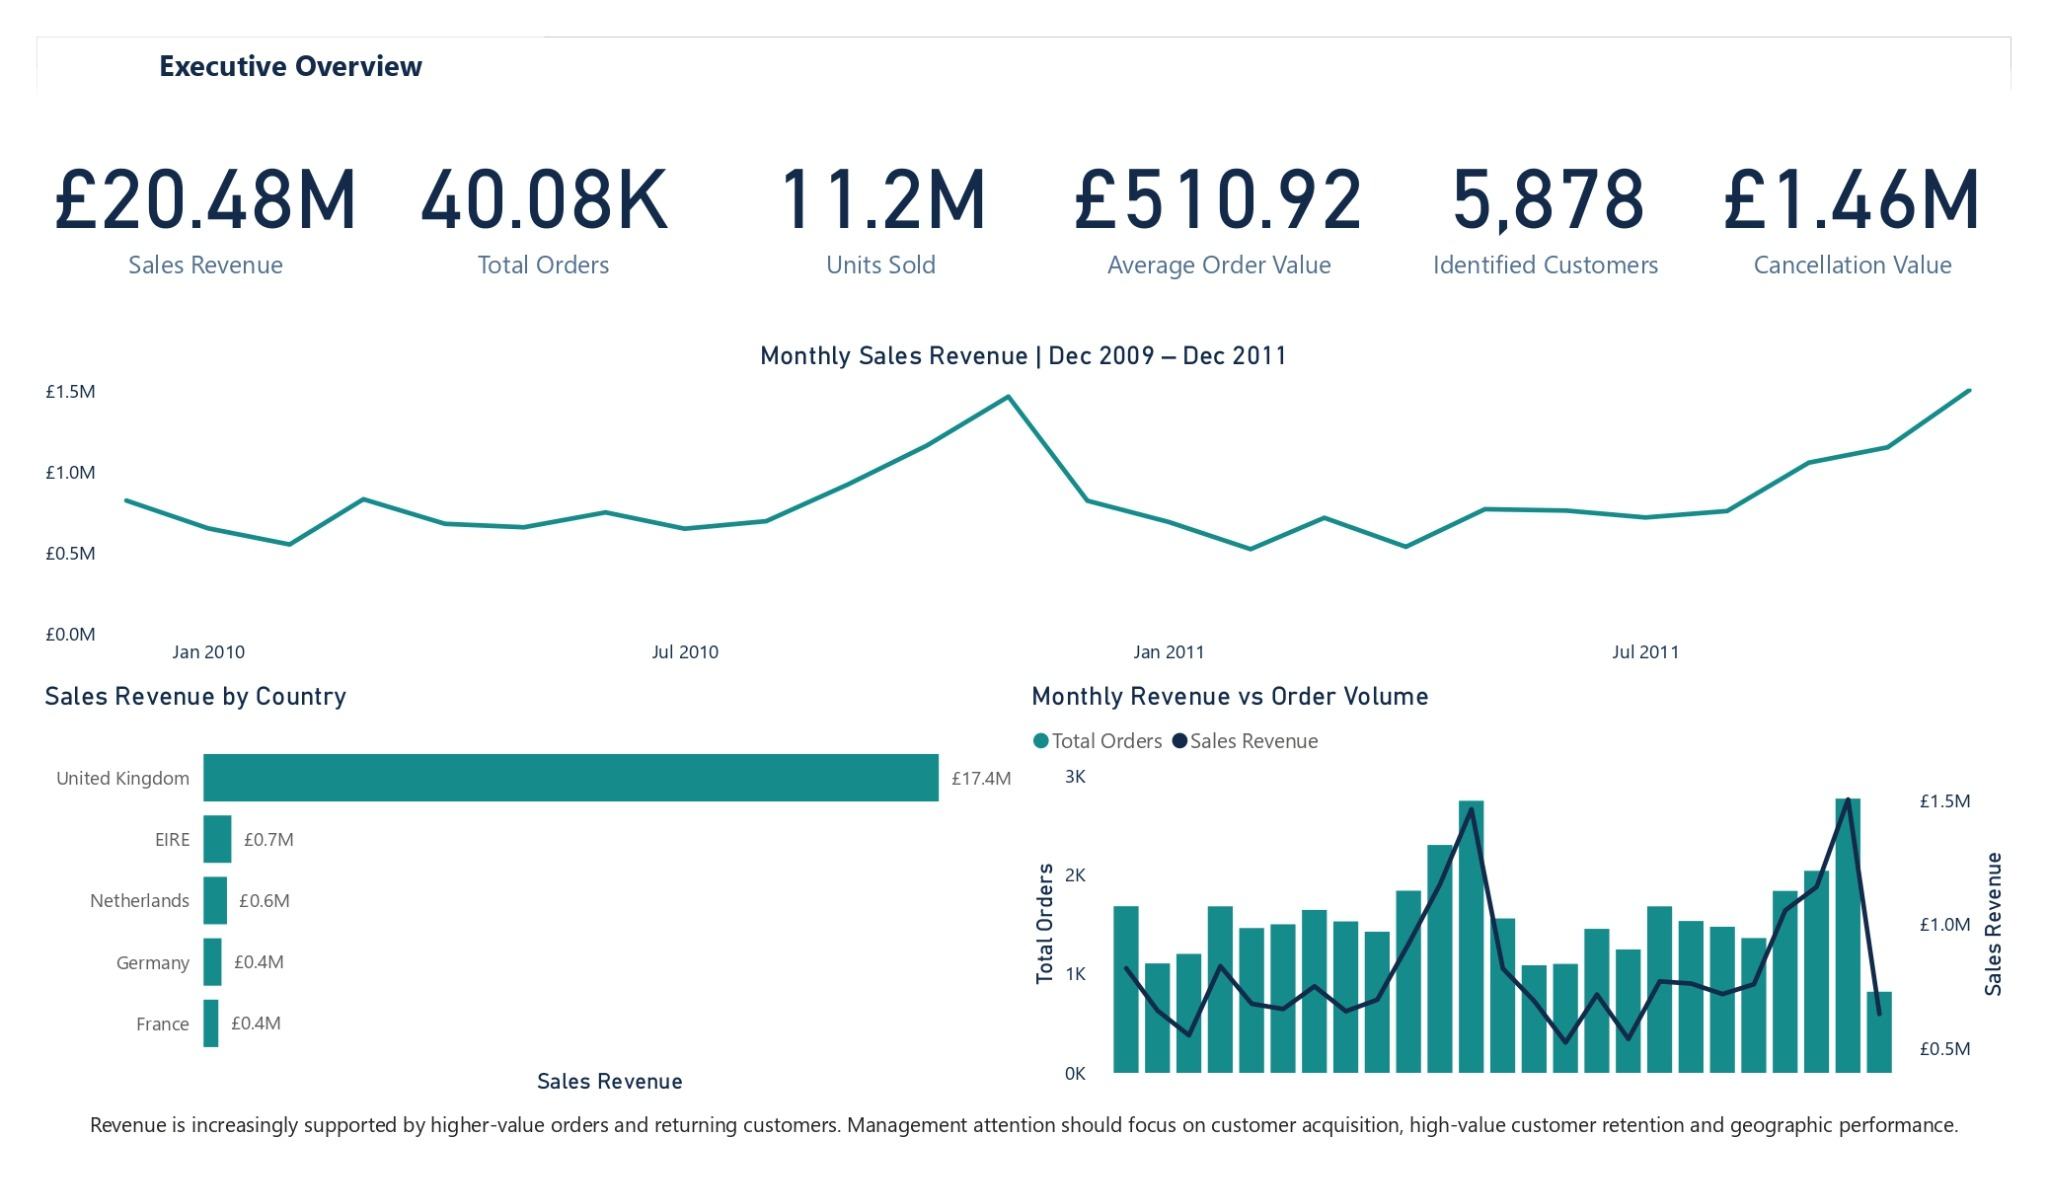

The dashboard page shown, as its layout file describes it:
{"tool":"powerbi","page":{"name":"Executive Overview","canvas":[1280,720],"ordinal":0},"visuals":[{"type":"card","fields":{"Values":["fact_sales.Sales Revenue"]},"box":[0,21,219,175],"z":0},{"type":"card","fields":{"Values":["fact_sales.Total Orders"]},"box":[219,21,219,175],"z":1000},{"type":"card","fields":{"Values":["fact_sales.Identified Customers"]},"box":[876,21,205,175],"z":2000},{"type":"card","fields":{"Values":["fact_sales.Average Order Value"]},"box":[657,21,219,175],"z":3000},{"type":"card","fields":{"Values":["fact_sales.Units Sold"]},"box":[438,21,219,175],"z":4000},{"type":"card","fields":{"Values":["fact_sales.Cancellation Value"]},"box":[1075,21,205,175],"z":5000},{"type":"lineChart","title":"Monthly Sales Revenue | Dec 2009 – Dec 2011","fields":{"Y":["fact_sales.Sales Revenue"],"Category":["dim_date.year_month.Variation.Date Hierarchy.Year","dim_date.year_month.Variation.Date Hierarchy.Month"]},"box":[0,196,1280,221],"z":6000},{"type":"clusteredBarChart","title":"Sales Revenue by Country","fields":{"Category":["dim_country.country_name"],"Y":["fact_sales.Sales Revenue"]},"box":[0,417,640,273],"z":7000},{"type":"lineClusteredColumnComboChart","title":"Monthly Revenue vs Order Volume","fields":{"Y":["fact_sales.Total Orders"],"Y2":["fact_sales.Sales Revenue"],"Category":["dim_date.year_month.Variation.Date Hierarchy.Year","dim_date.year_month.Variation.Date Hierarchy.Month"]},"box":[640,417,640,269],"z":8000},{"type":"textbox","box":[0,691,1280,29],"z":9000},{"type":"textbox","box":[0,0,329,35],"z":9001}]}

Visuals, with their boxes in screenshot pixels (x1, y1, x2, y2), scaled from the page's 1280x720 canvas onto the 2048x1184 screenshot:
card - fact_sales.Sales Revenue: {"left": 0, "top": 35, "right": 350, "bottom": 322}
card - fact_sales.Total Orders: {"left": 350, "top": 35, "right": 701, "bottom": 322}
card - fact_sales.Identified Customers: {"left": 1402, "top": 35, "right": 1730, "bottom": 322}
card - fact_sales.Average Order Value: {"left": 1051, "top": 35, "right": 1402, "bottom": 322}
card - fact_sales.Units Sold: {"left": 701, "top": 35, "right": 1051, "bottom": 322}
card - fact_sales.Cancellation Value: {"left": 1720, "top": 35, "right": 2047, "bottom": 322}
"Monthly Sales Revenue | Dec 2009 – Dec 2011" lineChart: {"left": 0, "top": 322, "right": 2047, "bottom": 686}
"Sales Revenue by Country" clusteredBarChart: {"left": 0, "top": 686, "right": 1024, "bottom": 1135}
"Monthly Revenue vs Order Volume" lineClusteredColumnComboChart: {"left": 1024, "top": 686, "right": 2047, "bottom": 1128}
textbox: {"left": 0, "top": 1136, "right": 2047, "bottom": 1183}
textbox: {"left": 0, "top": 0, "right": 526, "bottom": 58}
